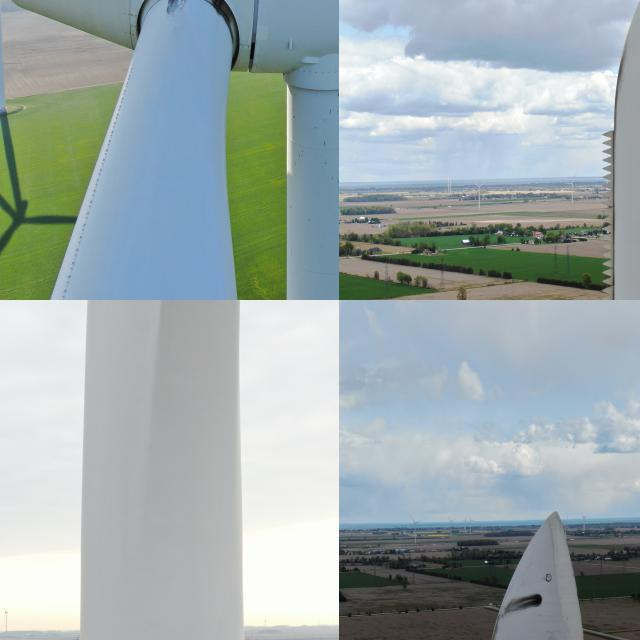damage: (207, 0, 244, 39), (500, 588, 544, 620), (159, 0, 196, 19)
